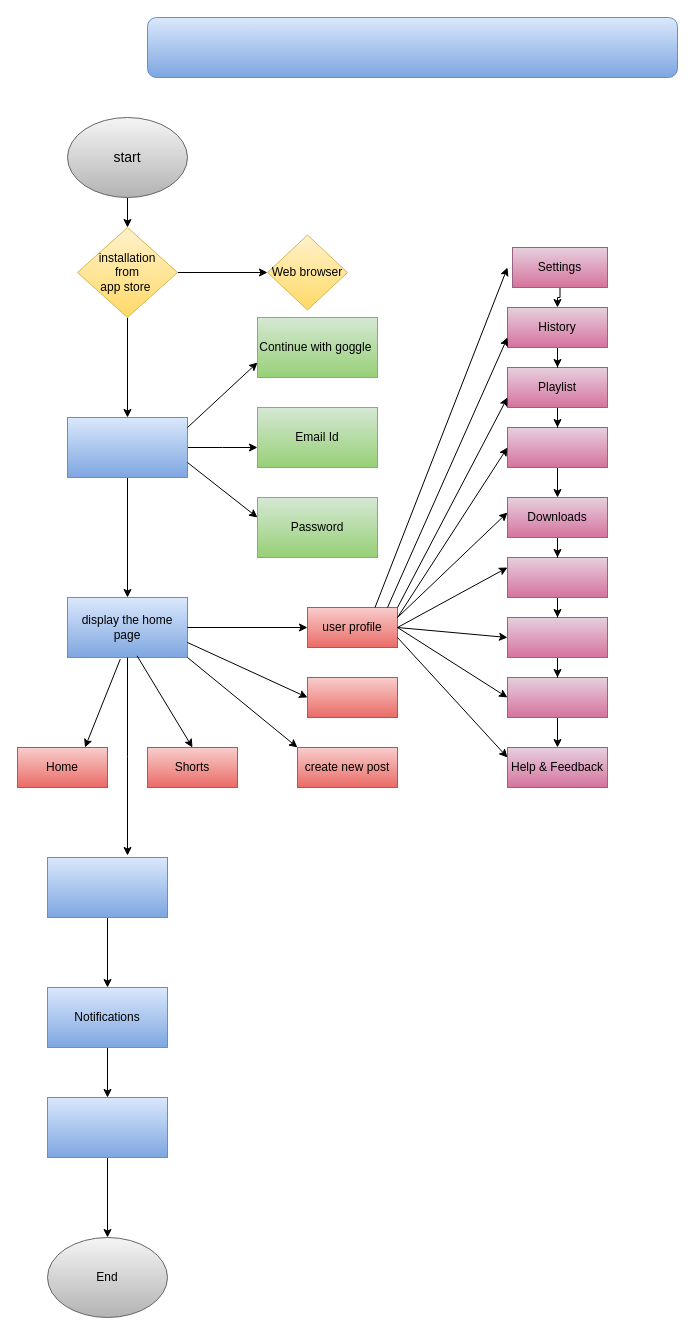
Some shapes in this 695 by 1335 pixel diagram are drawn without their labels. Each missing label, with the centre of its shape:
"Get Youtube premium" belongs at [557,637].
"Search bar" belongs at [107,1127].
"select a device (to like tv )" belongs at [107,887].
"Social Media Source" belongs at [412,47].
"subscriptions" belongs at [352,697].
"Time watched" belongs at [557,697].
"user details" belongs at [127,447].
"Your Movies" belongs at [557,577].
"Your videos" belongs at [557,447].
